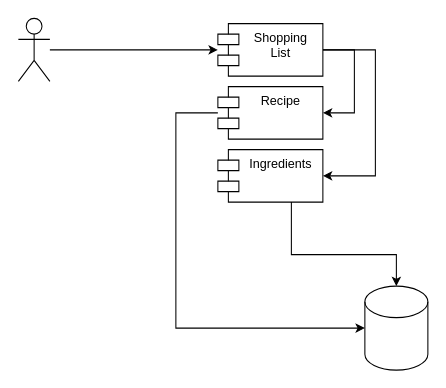
The diagram is 446 pixels wide and 388 high, and some of its shapes have lost their labels. Here are the shapes that lost their labels. From the top down, the centre of each, then its label:
At pixel 33 49: "Actor".
At pixel 396 327: "DB".
